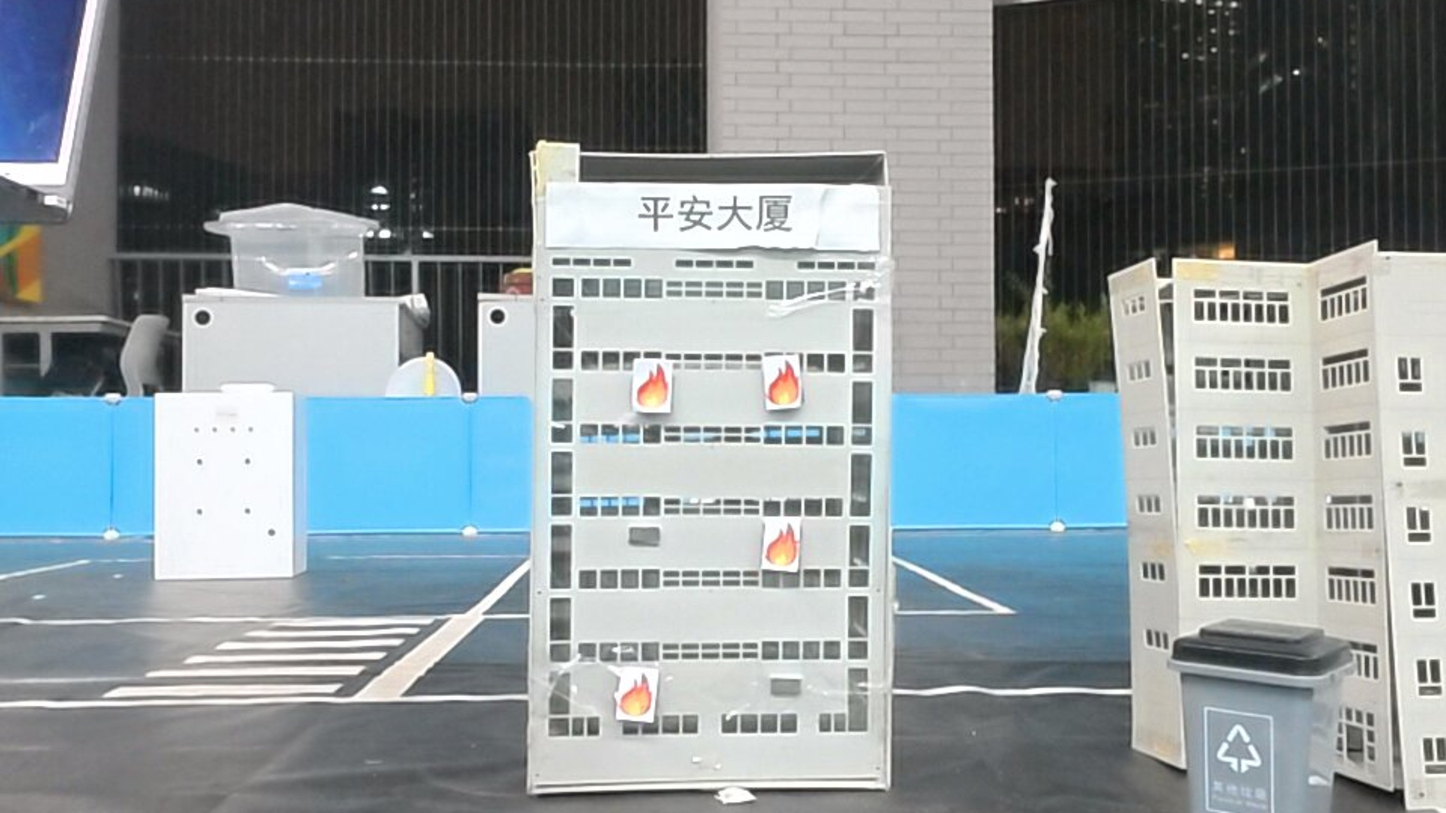fire: (615, 666, 660, 723), (633, 358, 675, 413), (763, 357, 805, 409), (763, 516, 803, 570)
